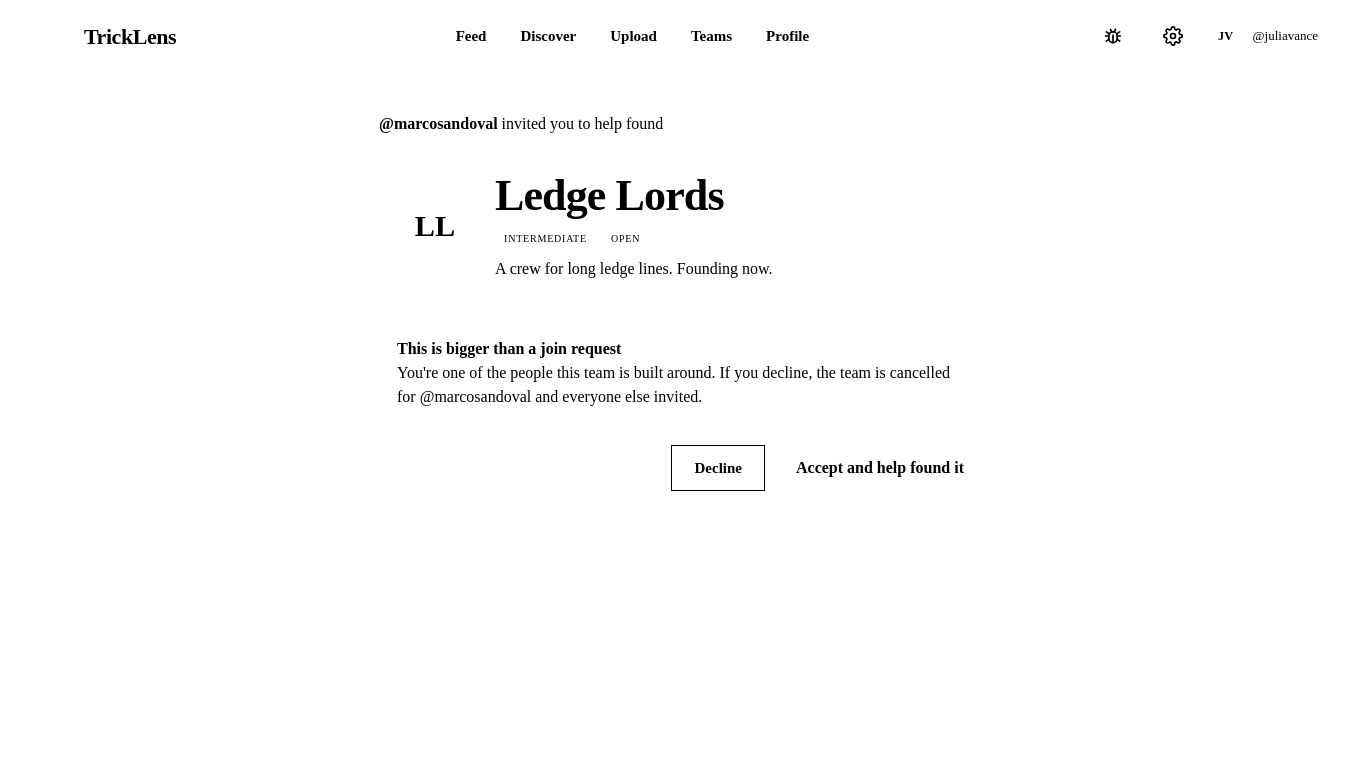
Test case: founding invite › accepting the last founding invite makes the team live
Check: the text "This is bigger than a join request" is shown, box [397,340,621,357]
Click the button "Accept and help found it".
click(880, 468)  # box [773,445,987,491]
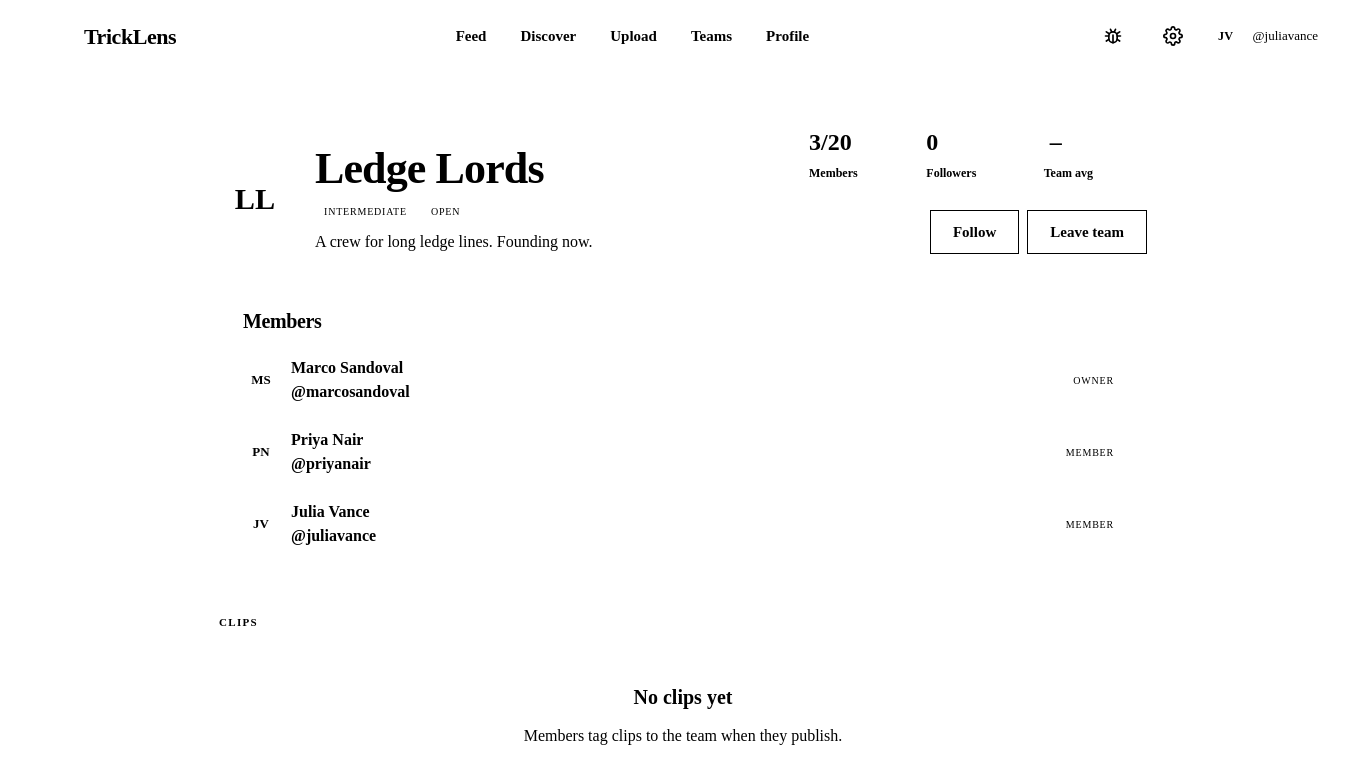
Check: the text "Julia Vance" is shown, box [291,503,370,520]
